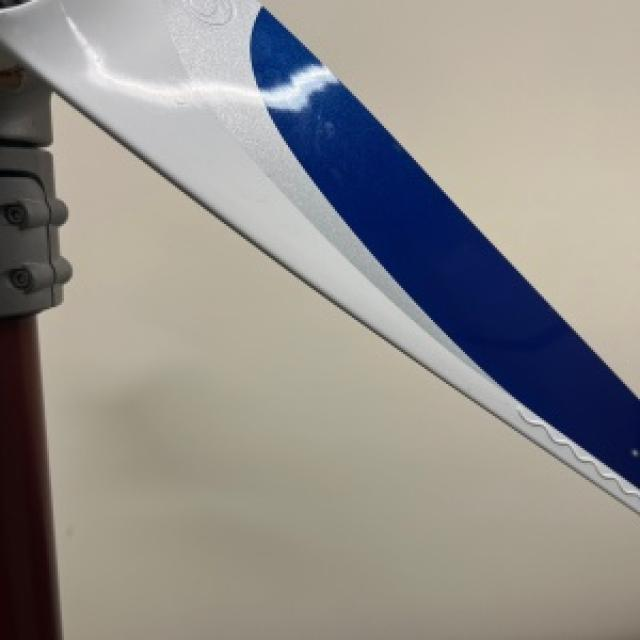healthy: (38, 96, 638, 638), (262, 0, 638, 390)
